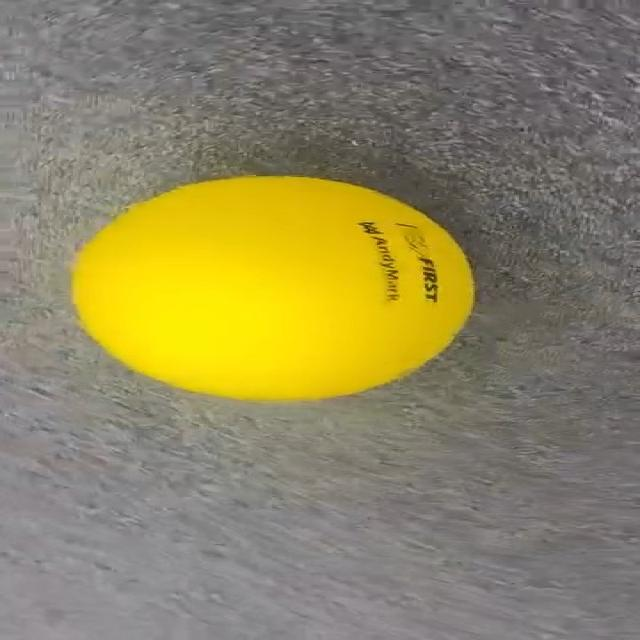Fuels: (73, 176, 471, 398)
